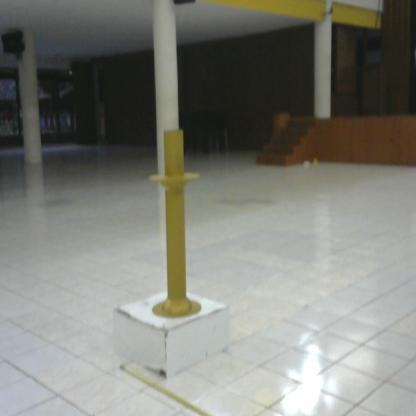pole: (143, 125, 209, 334)
